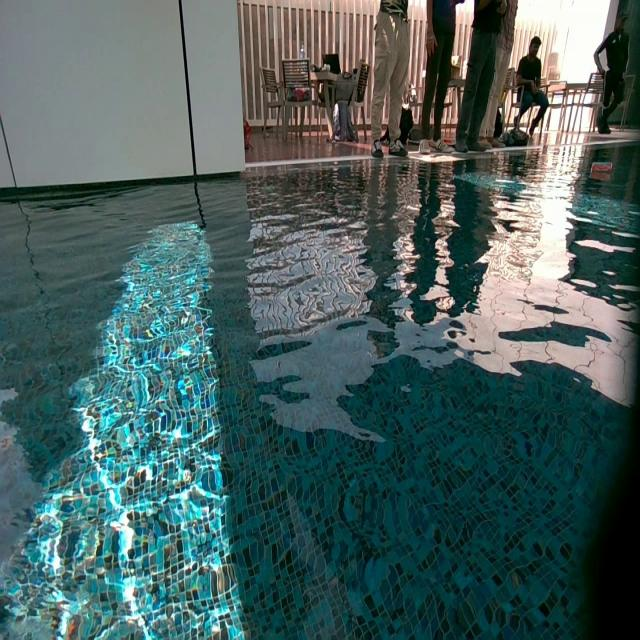Cans: (588, 162, 615, 178)
